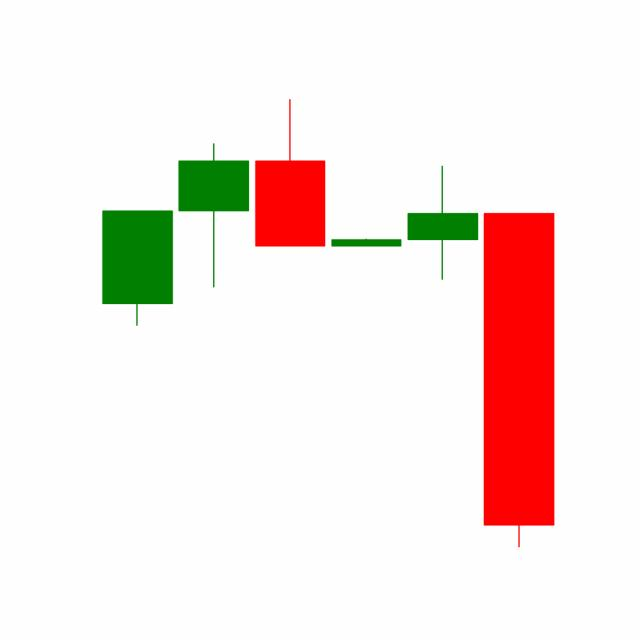Spinning Top: (403, 164, 481, 281)
